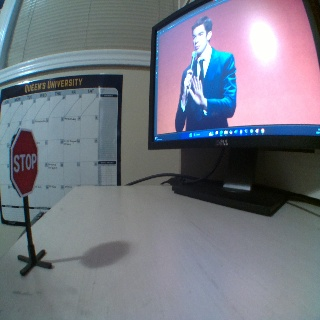sign_stop: (8, 129, 37, 194)
